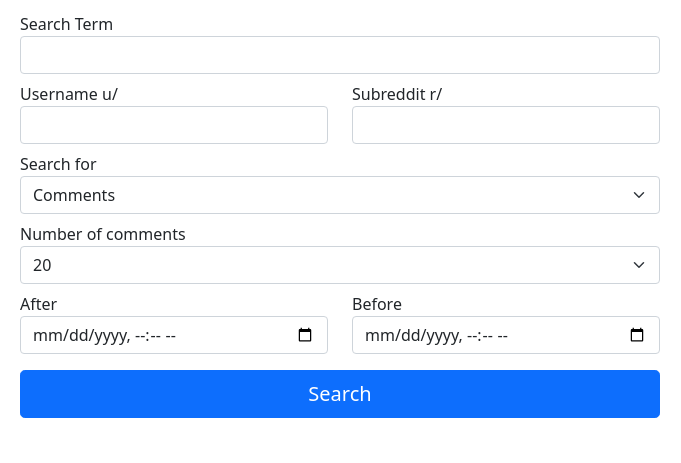
Search Form › subreddit with less than 3 characters fails
Type "aa" into the field named "subreddit" at (506, 125), box x1=352 y1=106 x2=660 y2=144
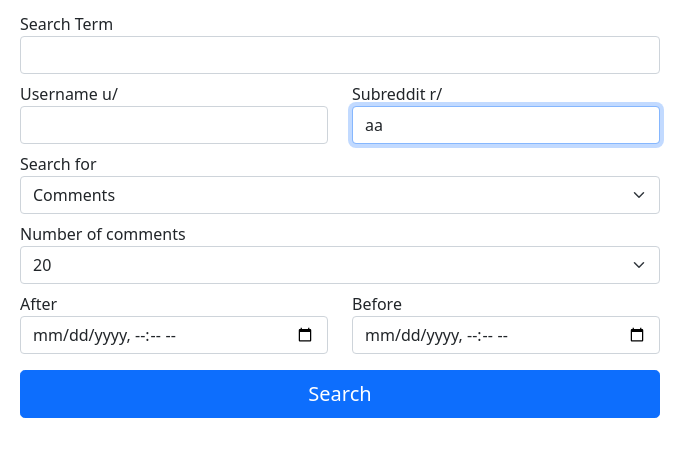
Click the button "Search" at (340, 394), box x1=20 y1=370 x2=660 y2=418
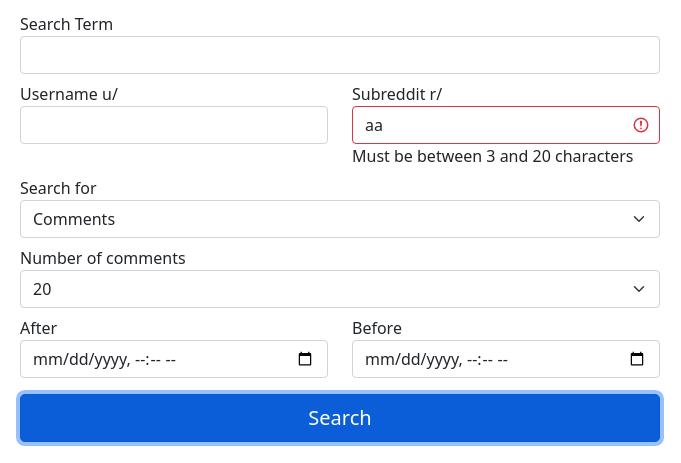
Expected: the text "Subreddit r/ Must be between 3 and 20 characters" is shown, x1=352 y1=82 x2=660 y2=168
